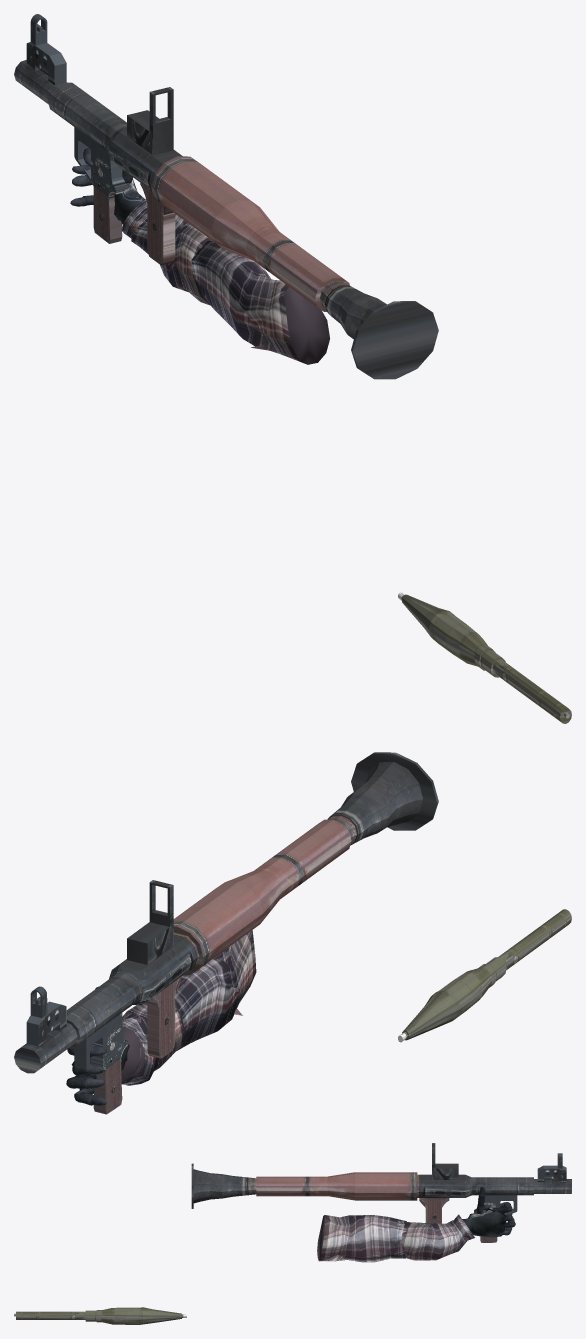
Rendered from rpg7_ads_fire.fbx.
3 views of the same model, one above another, from view 1: azimuth 30°, elevation 25°; view 2: azimuth 150°, elevation 25°; view 3: azimuth 270°, elevation 25° (orthographic). The views are drawn at different scales.
Parts seen in each view (by area): view 1: rpg_body, rupperarm, rpg_rocket, rforearm, rpg_pistolgrip, rpg_rearsight, rpg_grip, rpg_frontsight; view 2: rpg_body, rupperarm, rpg_rocket, rforearm, rpg_rearsight, rpg_pistolgrip, rpg_grip, rpg_frontsight, rpg_trigger; view 3: rpg_body, rupperarm, rforearm, rpg_rocket, rhand, rpg_rearsight, rpg_frontsight, rpg_grip, rpg_pistolgrip.
Part boxes in pixels (box(x1,y1,x2,y2)): rpg_body: box(14, 60, 438, 379); rupperarm: box(191, 241, 329, 364); rpg_rocket: box(398, 592, 571, 723); rforearm: box(121, 199, 212, 305); rpg_pistolgrip: box(89, 138, 127, 243); rpg_rearsight: box(127, 87, 173, 155); rpg_grip: box(140, 183, 175, 265); rpg_frontsight: box(26, 14, 66, 85); rpg_body: box(14, 752, 438, 1073); rupperarm: box(175, 930, 256, 1050); rpg_rocket: box(398, 909, 571, 1042); rforearm: box(121, 1002, 186, 1085); rpg_rearsight: box(127, 880, 173, 964); rpg_pistolgrip: box(91, 1013, 128, 1114); rpg_grip: box(146, 977, 181, 1058); rpg_frontsight: box(26, 986, 66, 1046); rpg_trigger: box(74, 1027, 102, 1069); rpg_body: box(191, 1163, 571, 1208); rupperarm: box(317, 1215, 406, 1262); rforearm: box(399, 1214, 474, 1260); rpg_rocket: box(14, 1307, 186, 1324); rhand: box(462, 1208, 506, 1237); rpg_rearsight: box(432, 1143, 458, 1179); rpg_frontsight: box(537, 1153, 566, 1181); rpg_grip: box(419, 1198, 449, 1223); rpg_pistolgrip: box(474, 1195, 501, 1242).
Size of the model in its own units: 6.9 by 22.18 by 62.88.
